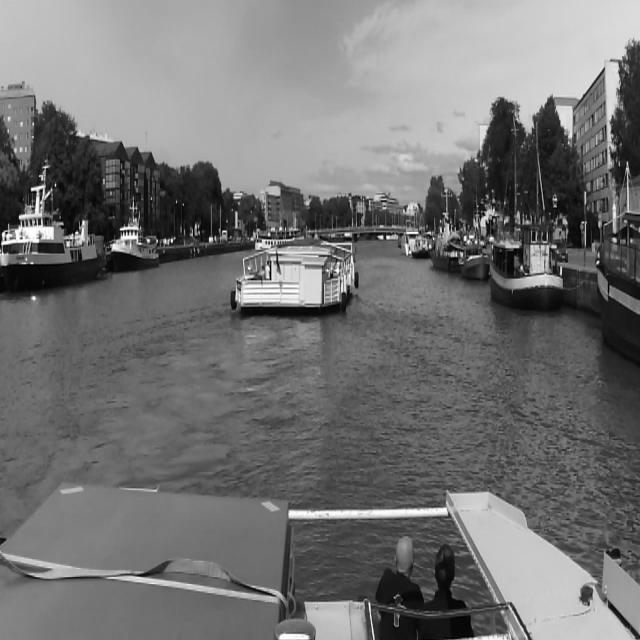ship: (202, 204, 376, 336), (0, 183, 98, 295), (596, 209, 638, 363), (231, 252, 345, 308), (492, 219, 564, 304), (107, 218, 159, 266), (434, 191, 454, 269), (459, 244, 489, 280)
